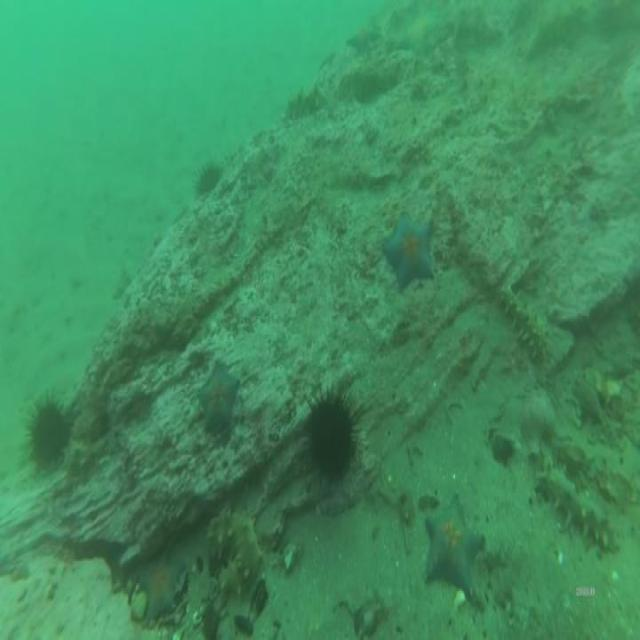echinus: (308, 396, 350, 481), (31, 405, 68, 458), (196, 166, 218, 193)
holothurian: (537, 462, 616, 554), (208, 514, 260, 594), (498, 286, 551, 360), (285, 89, 327, 120)
starfish: (423, 496, 484, 593), (384, 212, 434, 289), (198, 363, 238, 433), (142, 561, 182, 615)
